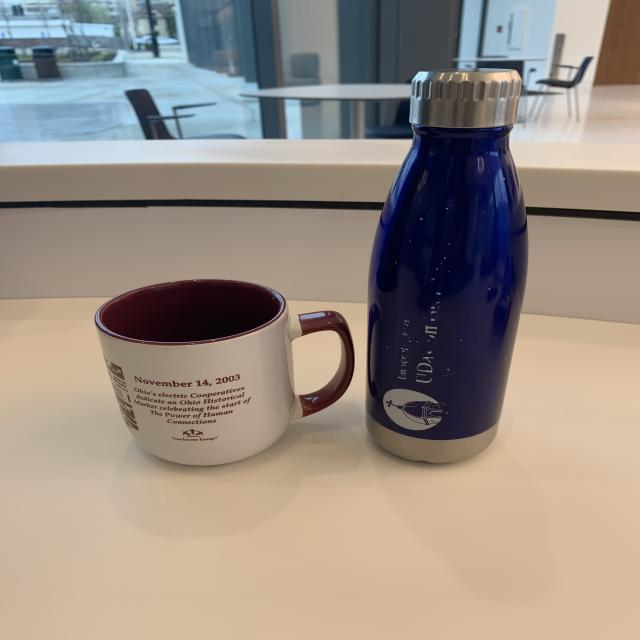Cup: (93, 276, 355, 470)
